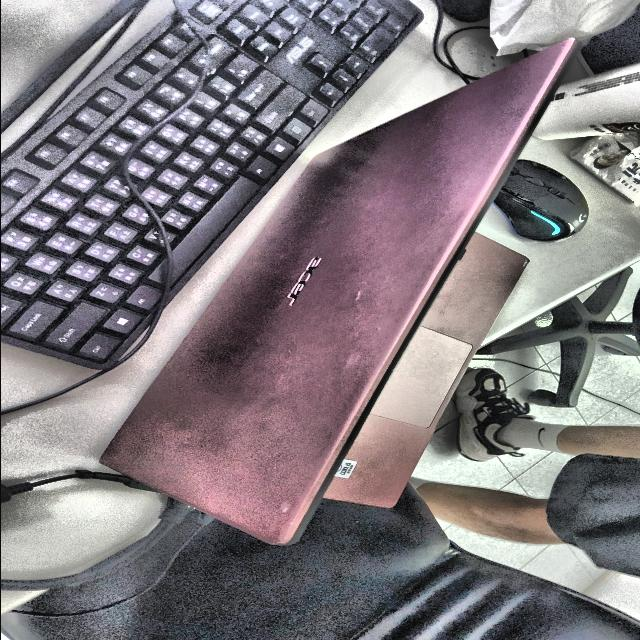Keyboard: (0, 0, 422, 370)
Laptop: (100, 39, 574, 544)
MOUSE: (493, 160, 587, 242)
